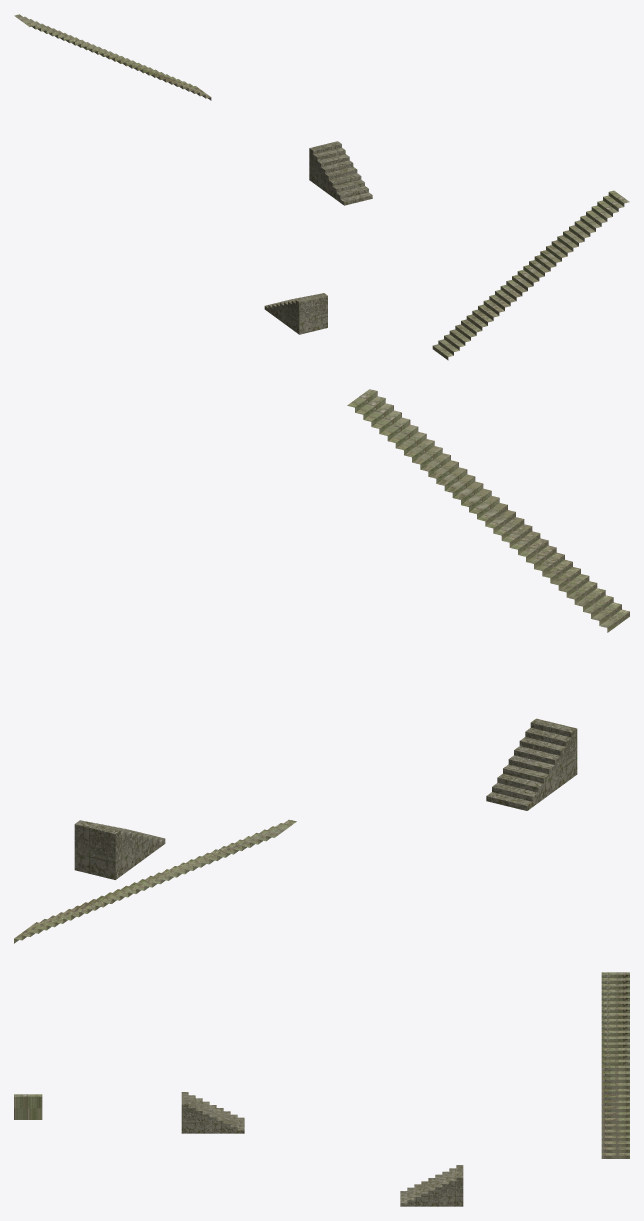
The picture shows the model from 3 angles, top to bottom: view 1: azimuth 30°, elevation 25°; view 2: azimuth 150°, elevation 25°; view 3: azimuth 270°, elevation 25°; orthographic projection. The views are drawn at different scales.
Visible parts, largest first — view 1: Cube.002; view 2: Cube.002; view 3: Cube.002.
Boxes of the visible parts, <box> form: Cube.002: <box>14,14,629,360</box>; Cube.002: <box>14,389,629,943</box>; Cube.002: <box>14,972,629,1206</box>.
Bounding box in the file's own units: 2195 × 1118 × 4718.
